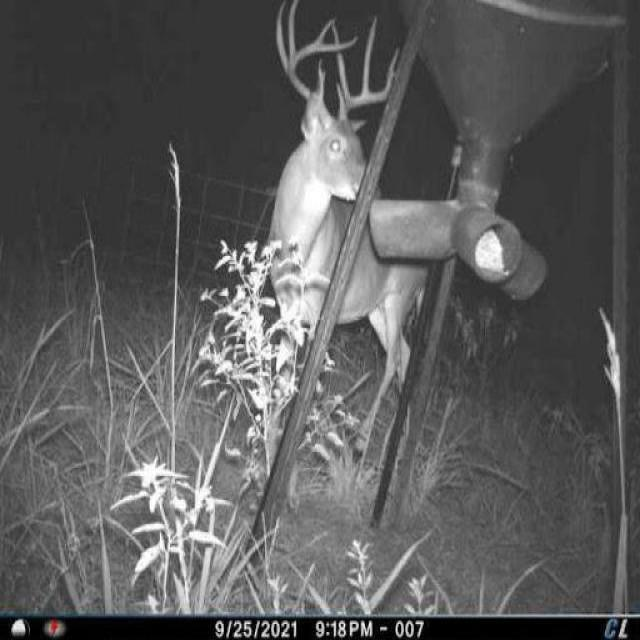deer: (252, 0, 435, 481)
